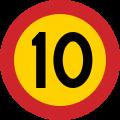Speed Limit -10-: (15, 22, 103, 100)
